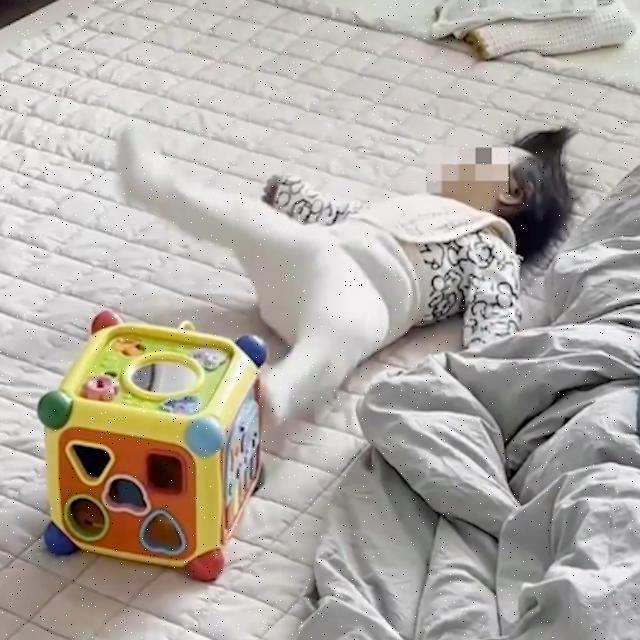child: (119, 110, 573, 427)
